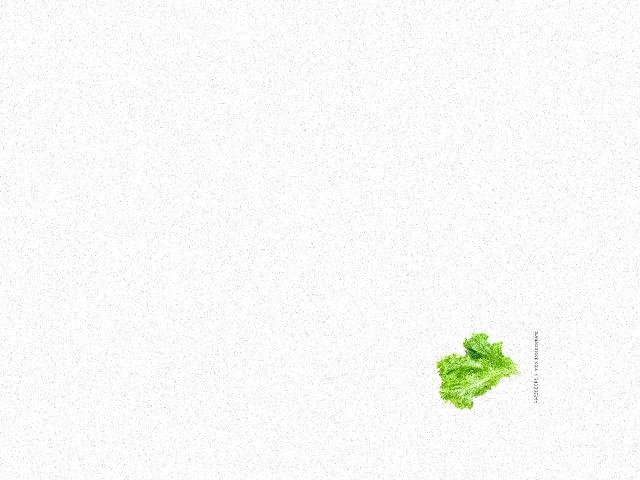lettuce: (434, 330, 527, 408)
